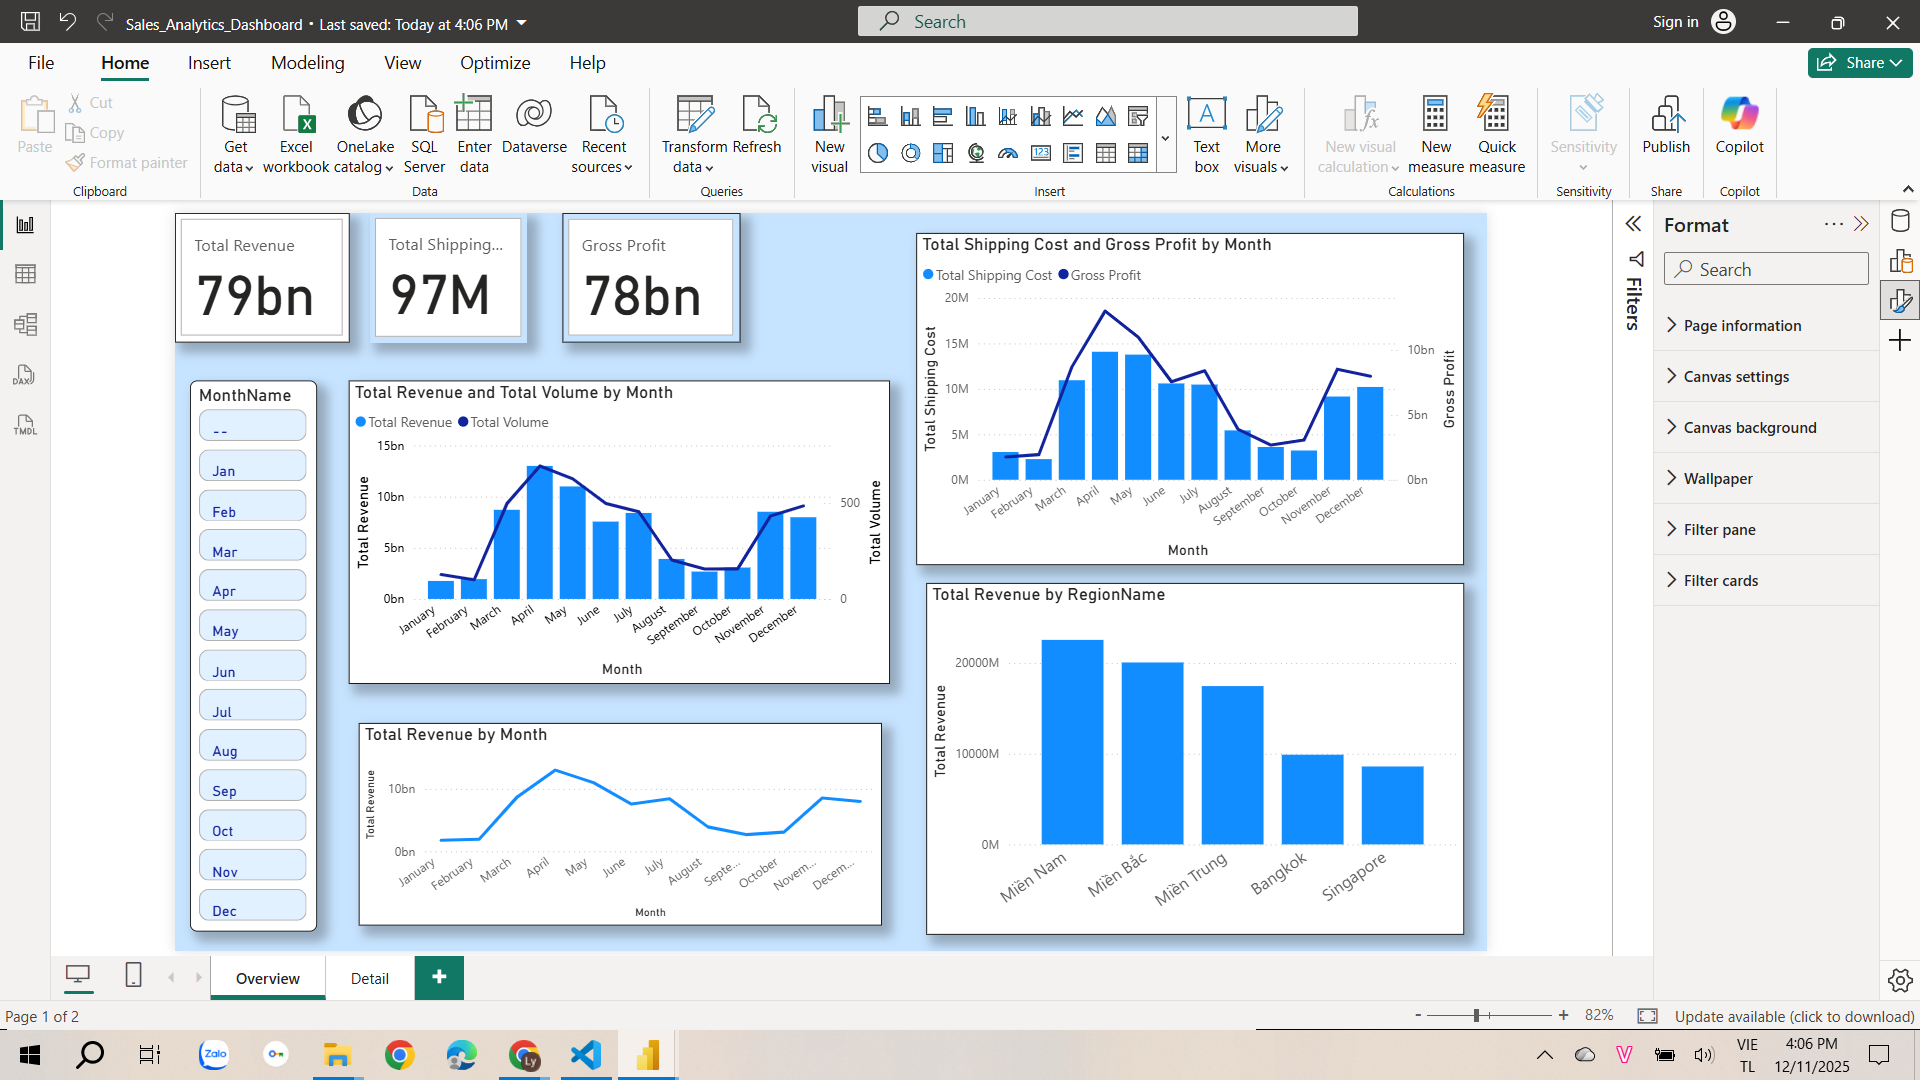

The dashboard page shown, as its layout file describes it:
{"tool":"powerbi","page":{"name":"Overview ","canvas":[1280,720],"ordinal":0},"visuals":[{"type":"lineClusteredColumnComboChart","fields":{"Y":["agg_monthly_sales.Total Revenue"],"Y2":["agg_monthly_sales.Total Volume"],"Category":["dim_date.YearMonth.Variation.Date Hierarchy.Month"]},"box":[169.7,163.2,527.6,296.1],"z":0},{"type":"lineStackedColumnComboChart","fields":{"Category":["dim_date.YearMonth.Variation.Date Hierarchy.Month"],"Y":["agg_monthly_sales.Total Shipping Cost"],"Y2":["agg_monthly_sales.Gross Profit"]},"box":[723.7,19.7,534.2,323.7],"z":1000},{"type":"lineChart","fields":{"Category":["dim_date.YearMonth.Variation.Date Hierarchy.Month"],"Y":["agg_monthly_sales.Total Revenue"]},"box":[178.9,497.4,510.5,197.4],"z":2000},{"type":"columnChart","title":"Total Revenue by RegionName","fields":{"Category":["dim_territory.RegionName"],"Y":["agg_monthly_sales.Total Revenue"]},"box":[732.9,360.5,525,343.4],"z":3000},{"type":"cardVisual","fields":{"Data":["agg_monthly_sales.Total Revenue"]},"box":[0,0,170,126.2],"z":4000},{"type":"cardVisual","fields":{"Data":["agg_monthly_sales.Total Shipping Cost"]},"box":[190,0,153.8,126.2],"z":5000},{"type":"cardVisual","fields":{"Data":["agg_monthly_sales.Gross Profit"]},"box":[377.5,0,173.8,126.2],"z":6000},{"type":"advancedSlicerVisual","fields":{"Values":["dim_date.MonthName"]},"box":[15,163.8,123.8,537.5],"z":7000}]}

Visuals, with their boxes on the page's 1280x720 design canvas (x1, y1, x2, y2). These are canvas units, not pixel positions in the 1920x1080 screenshot, which may show the page scaled, cropped or inside an application window:
lineClusteredColumnComboChart - agg_monthly_sales.Total Revenue x agg_monthly_sales.Total Volume: {"x1": 170, "y1": 163, "x2": 697, "y2": 459}
lineStackedColumnComboChart - dim_date.YearMonth.Variation.Date Hierarchy.Month x agg_monthly_sales.Total Shipping Cost: {"x1": 724, "y1": 20, "x2": 1258, "y2": 343}
lineChart - dim_date.YearMonth.Variation.Date Hierarchy.Month x agg_monthly_sales.Total Revenue: {"x1": 179, "y1": 497, "x2": 689, "y2": 695}
"Total Revenue by RegionName" columnChart: {"x1": 733, "y1": 360, "x2": 1258, "y2": 704}
cardVisual - agg_monthly_sales.Total Revenue: {"x1": 0, "y1": 0, "x2": 170, "y2": 126}
cardVisual - agg_monthly_sales.Total Shipping Cost: {"x1": 190, "y1": 0, "x2": 344, "y2": 126}
cardVisual - agg_monthly_sales.Gross Profit: {"x1": 378, "y1": 0, "x2": 551, "y2": 126}
advancedSlicerVisual - dim_date.MonthName: {"x1": 15, "y1": 164, "x2": 139, "y2": 701}
